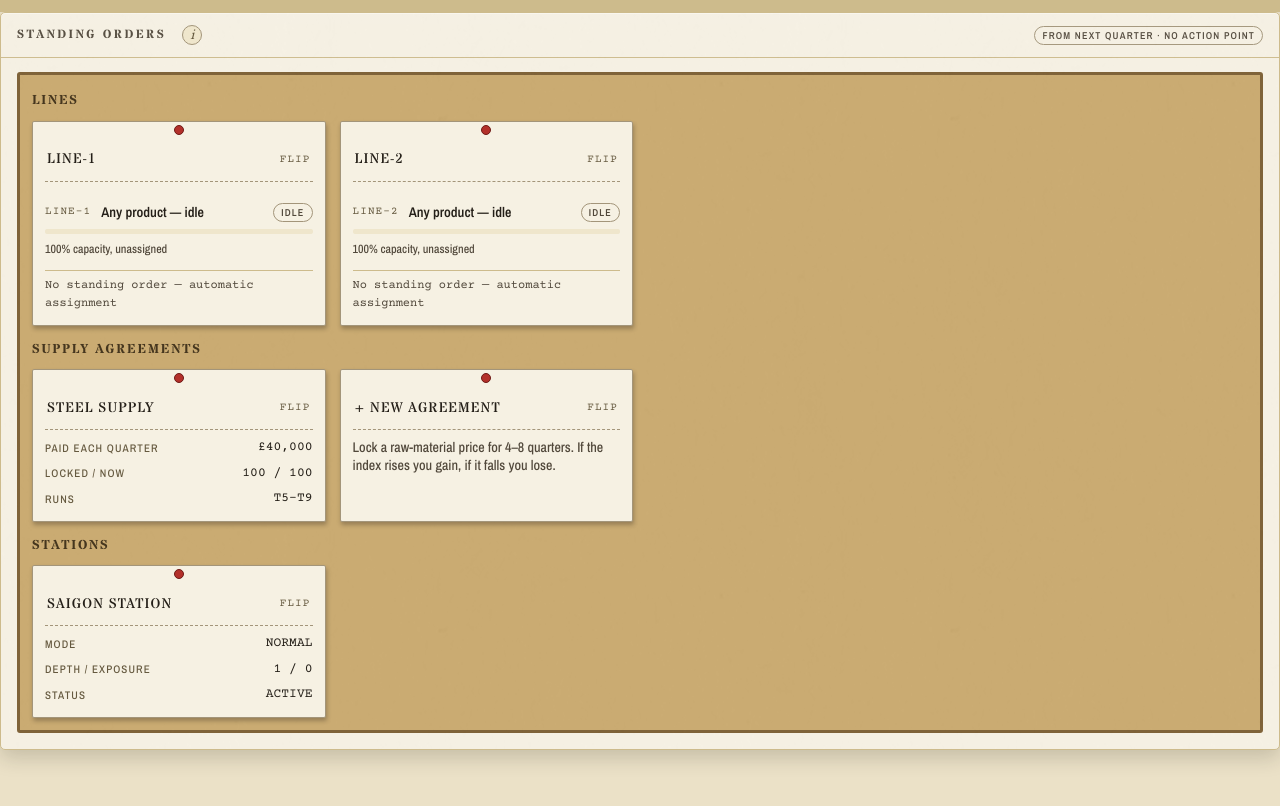
Test: ändringar görs med Segmented och Stepper och köas via onSet › AVTAL: en råvara som redan har ett avtal kan inte sättas på nytt (SET avstängd med orsak)
Step 1. Click the button with test id "standing-flip-supply-new" → (486, 408), box left=352, top=386, right=620, bottom=430
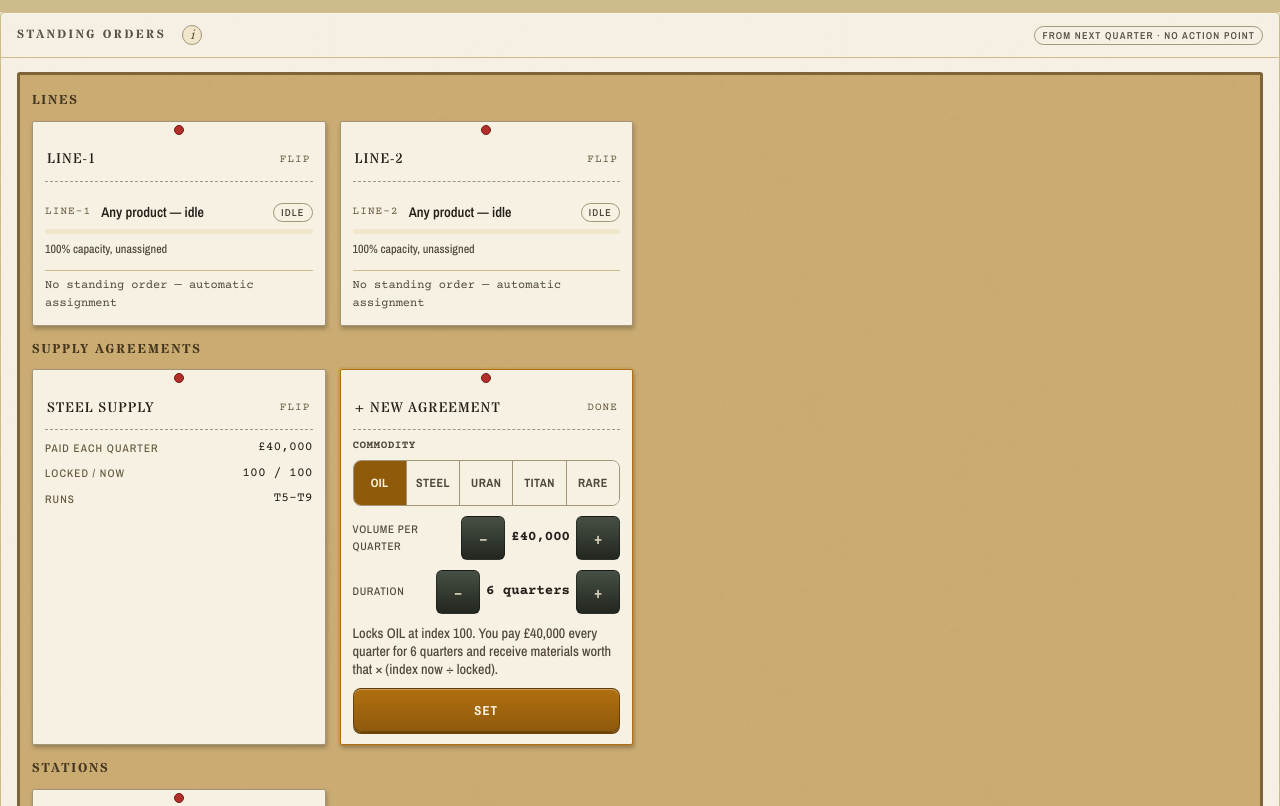
Step 2. Click the radio button labelled "STEEL" → (433, 482), box left=407, top=460, right=460, bottom=504
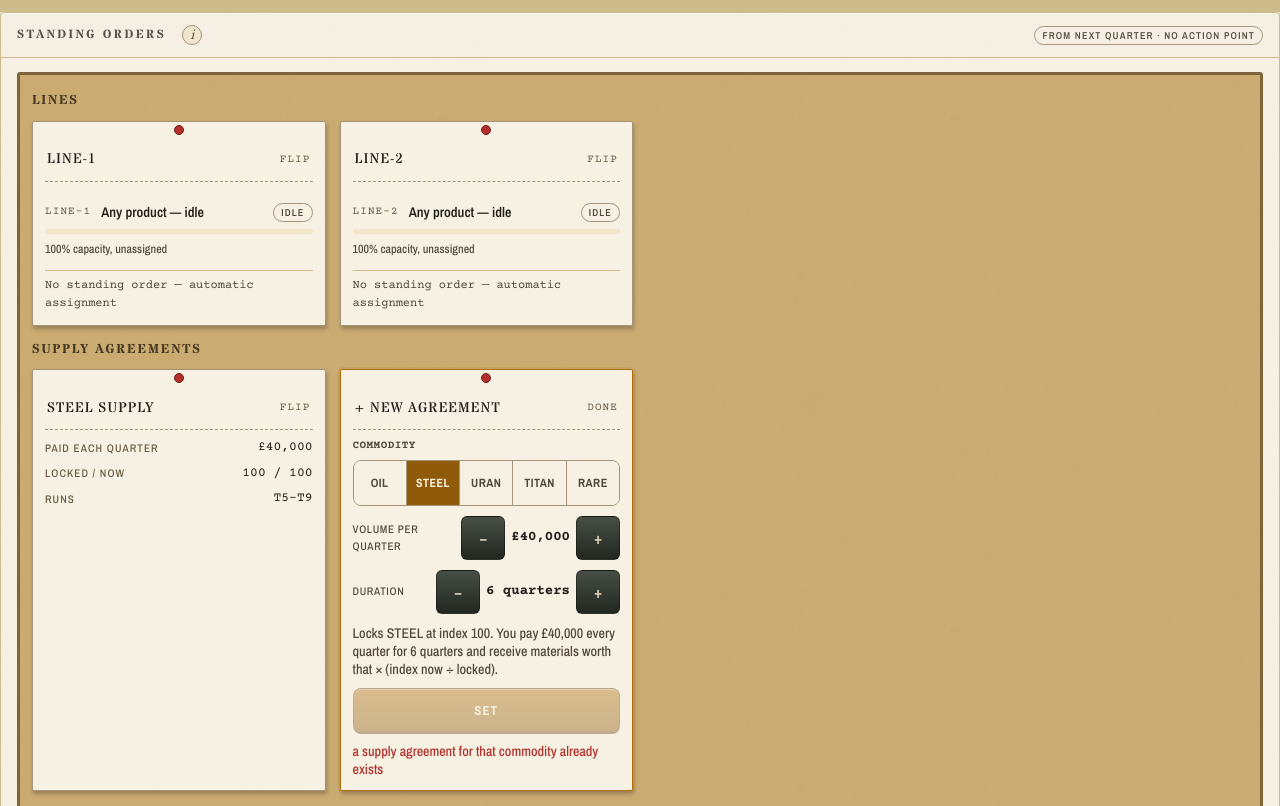
Expected: the button with test id "standing-set-supply-new" is disabled, left=352, top=688, right=620, bottom=732
Expected: the element with test id "standing-card-supply-new" shows "already exists", left=352, top=742, right=598, bottom=778
